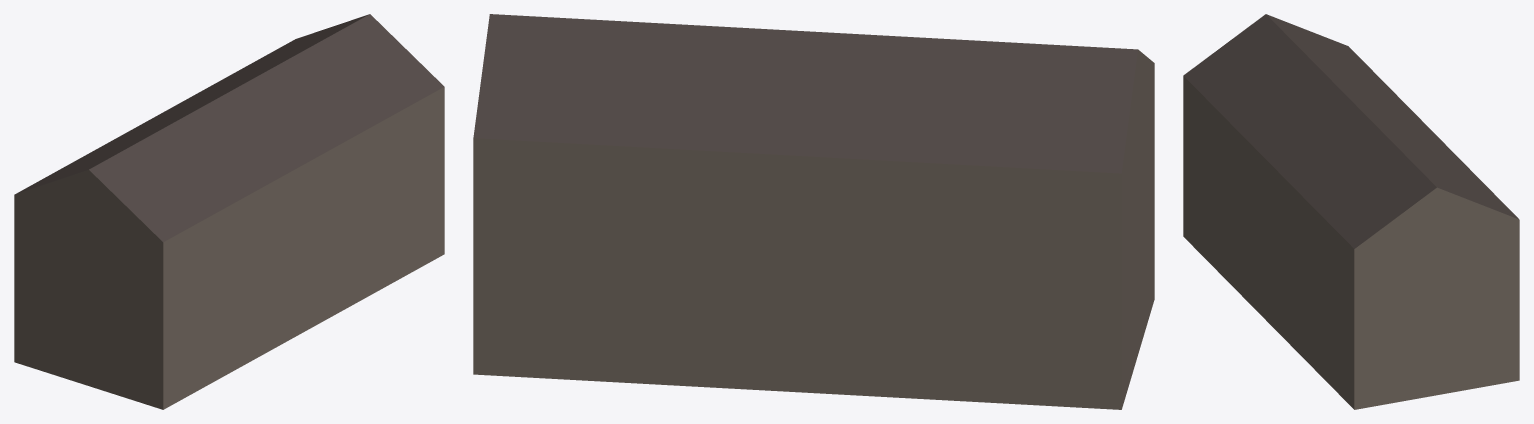
3 views of the same model, side by side, from view 1: azimuth 30°, elevation 25°; view 2: azimuth 150°, elevation 25°; view 3: azimuth 270°, elevation 25° (orthographic). The views are drawn at different scales.
Visible parts, largest first — view 1: HP-w408450789; view 2: HP-w408450789; view 3: HP-w408450789.
Boxes of the visible parts, x1,y1,x2,y2 form: HP-w408450789: (14, 14, 444, 409); HP-w408450789: (473, 14, 1154, 409); HP-w408450789: (1183, 14, 1519, 409).
Size of the model in its own units: 16.24 by 7.75 by 11.38.
